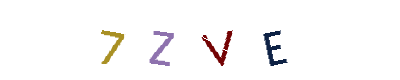7: (81, 0, 161, 80)
E: (207, 0, 287, 80)
V: (160, 0, 240, 80)
Z: (137, 0, 217, 80)
